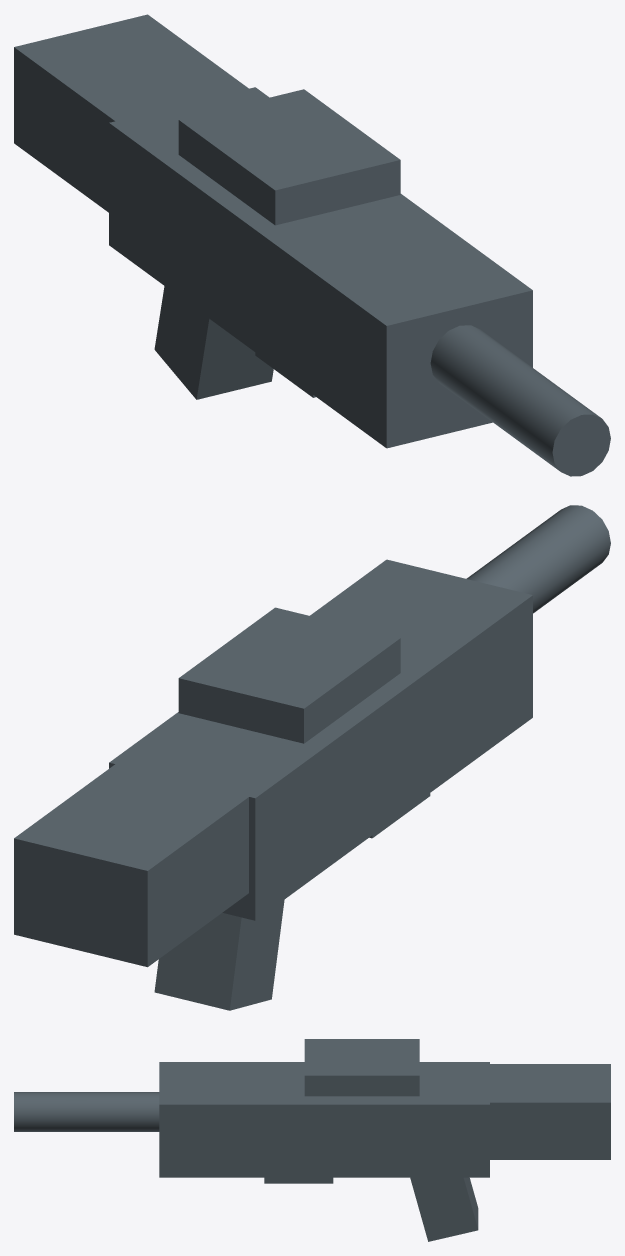
File: primary_rifle.gltf
3 renders of one model, top to bottom at view 1: azimuth 30°, elevation 25°; view 2: azimuth 150°, elevation 25°; view 3: azimuth 270°, elevation 25°, orthographic. The views are drawn at different scales.
Visible parts, largest first — view 1: primary_rifle; view 2: primary_rifle; view 3: primary_rifle.
Part boxes in pixels (x1,y1,x2,y2): primary_rifle: (14, 14, 610, 476); primary_rifle: (14, 505, 610, 1010); primary_rifle: (14, 1039, 610, 1241).
Size of the model in its own units: 0.35 by 0.6664 by 2.08.
